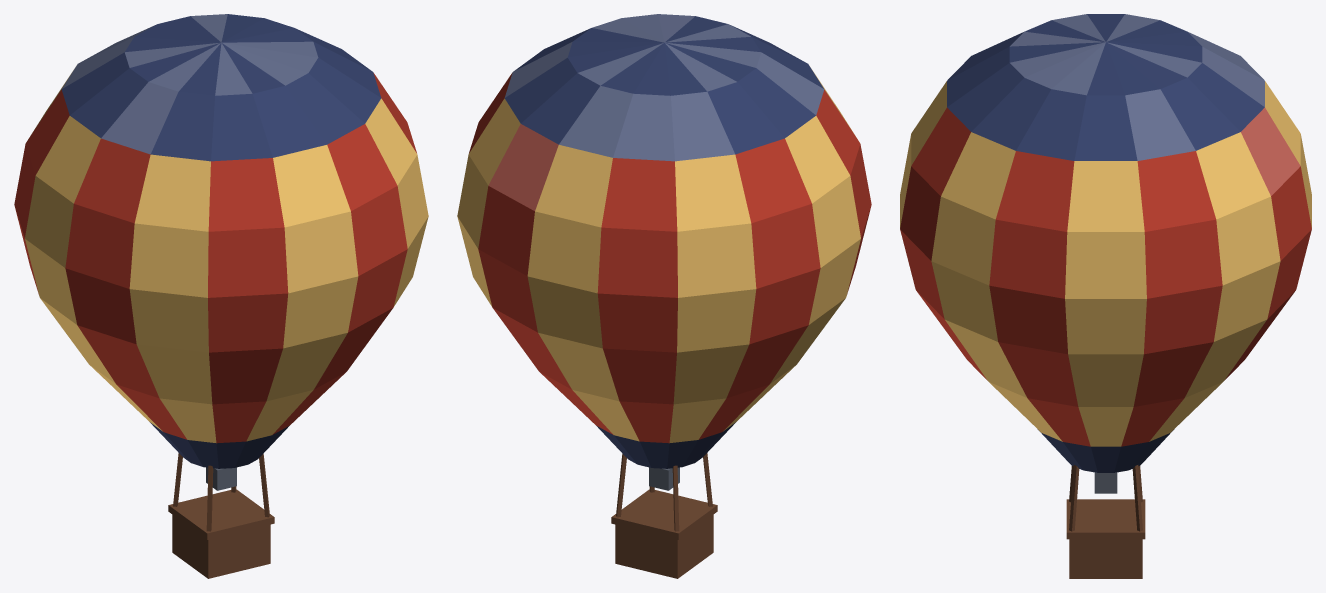
The model's file is SM_Balloon_B.fbx.
3 views of the same model, side by side, from view 1: azimuth 30°, elevation 25°; view 2: azimuth 150°, elevation 25°; view 3: azimuth 270°, elevation 25° (orthographic).
Parts seen in each view (by area): view 1: SM_Balloon_B; view 2: SM_Balloon_B; view 3: SM_Balloon_B.
Boxes of the visible parts, x1,y1,x2,y2 form: SM_Balloon_B: (14, 14, 428, 578); SM_Balloon_B: (457, 14, 871, 578); SM_Balloon_B: (900, 14, 1311, 578).
Bounding box in the file's own units: 9.02 × 12.6 × 9.02.
